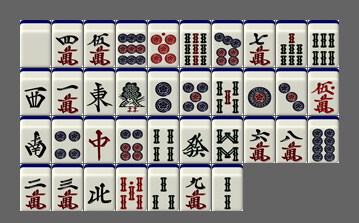0m: (308, 68, 339, 115)
0p: (148, 20, 179, 67)
0s: (116, 164, 147, 211)
1m: (52, 68, 83, 115)
1p: (244, 68, 275, 115)
1s: (116, 68, 147, 115)
1z: (84, 68, 115, 115)
2m: (20, 164, 51, 211)
2p: (148, 68, 179, 115)
2s: (212, 164, 243, 211)
2z: (20, 116, 51, 163)
3m: (52, 164, 83, 211)
3p: (276, 68, 307, 115)
3s: (148, 164, 179, 211)
3z: (20, 68, 51, 115)
4m: (52, 20, 83, 67)
4p: (52, 116, 83, 163)
4s: (148, 116, 179, 163)
4z: (84, 164, 115, 211)
5m: (84, 20, 115, 67)
5p: (180, 68, 211, 115)
5s: (212, 68, 243, 115)
5z: (20, 20, 51, 67)
6m: (244, 116, 275, 163)
6p: (116, 116, 147, 163)
6s: (308, 20, 339, 67)
6z: (180, 116, 211, 163)
7m: (244, 20, 275, 67)
7p: (212, 20, 243, 67)
7s: (276, 20, 307, 67)
7z: (84, 116, 115, 163)
8m: (276, 116, 307, 163)
8p: (308, 116, 339, 163)
8s: (212, 116, 243, 163)
9m: (180, 164, 211, 211)
9p: (116, 20, 147, 67)
9s: (180, 20, 211, 67)
